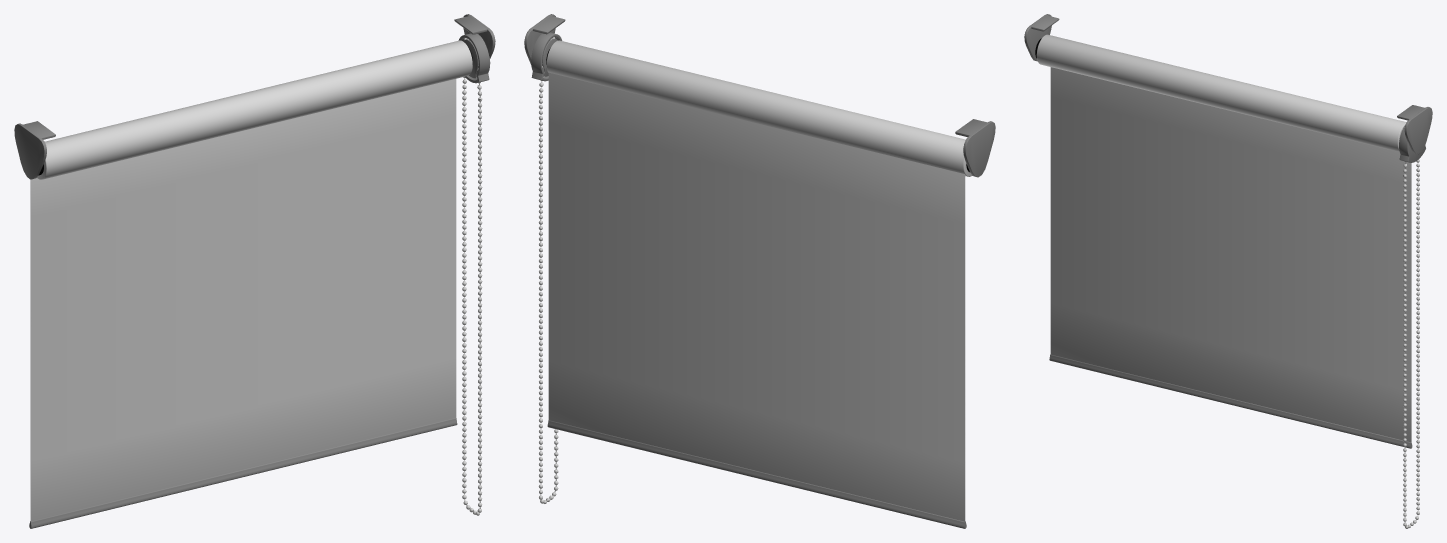
Rendered from store-draco.glb.
The picture shows the model from 3 angles, left to right: view 1: azimuth 30°, elevation 25°; view 2: azimuth 150°, elevation 25°; view 3: azimuth 330°, elevation 25°; orthographic projection. The views are drawn at different scales.
Visible parts, largest first — view 1: Object_2, Object_4, Object_3; view 2: Object_2, Object_4, Object_3; view 3: Object_2, Object_4, Object_3.
Part boxes in pixels (bbox=[...]): Object_2: bbox=[29, 33, 490, 528]; Object_4: bbox=[22, 38, 481, 515]; Object_3: bbox=[14, 14, 495, 297]; Object_2: bbox=[531, 32, 969, 528]; Object_4: bbox=[539, 37, 987, 503]; Object_3: bbox=[524, 14, 995, 246]; Object_2: bbox=[1035, 38, 1425, 505]; Object_4: bbox=[1031, 15, 1419, 528]; Object_3: bbox=[1024, 14, 1432, 343].
Size of the model in its own units: 1.67 by 1.73 by 0.1955.
Materials: 1 (1 with a texture image).
